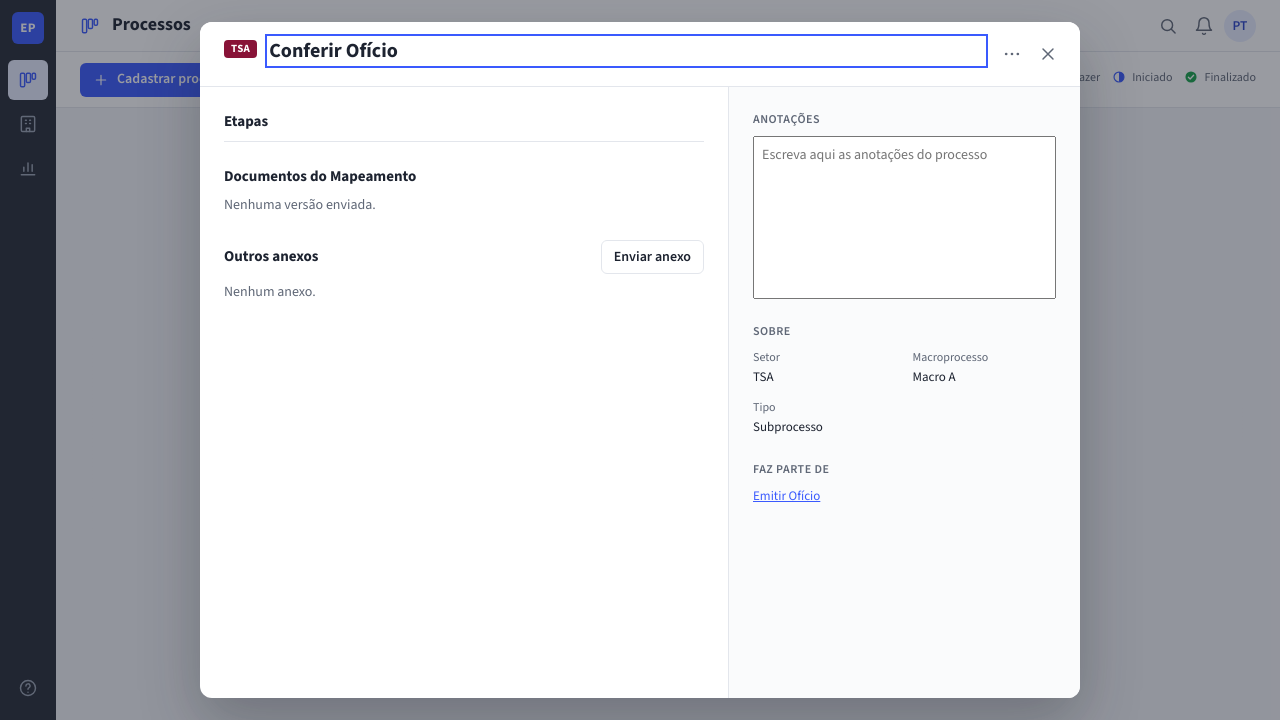
Test: subprocesso vira processo: o pai some do painel
Expected: the link "Emitir Ofício" is shown, x1=753 y1=486 x2=820 y2=504
Click the button named "Ações do processo": (1012, 54) x1=996 y1=38 x2=1028 y2=70
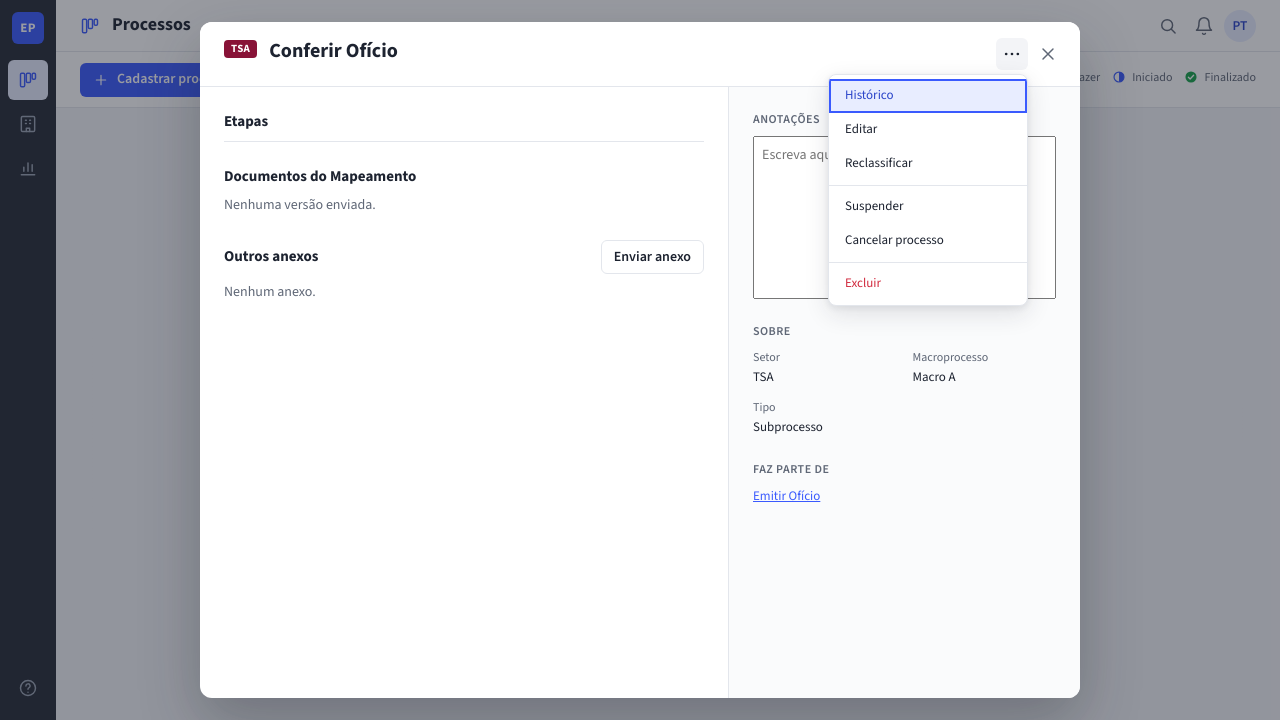
Click the menu item "Reclassificar": (928, 164) x1=829 y1=147 x2=1027 y2=181
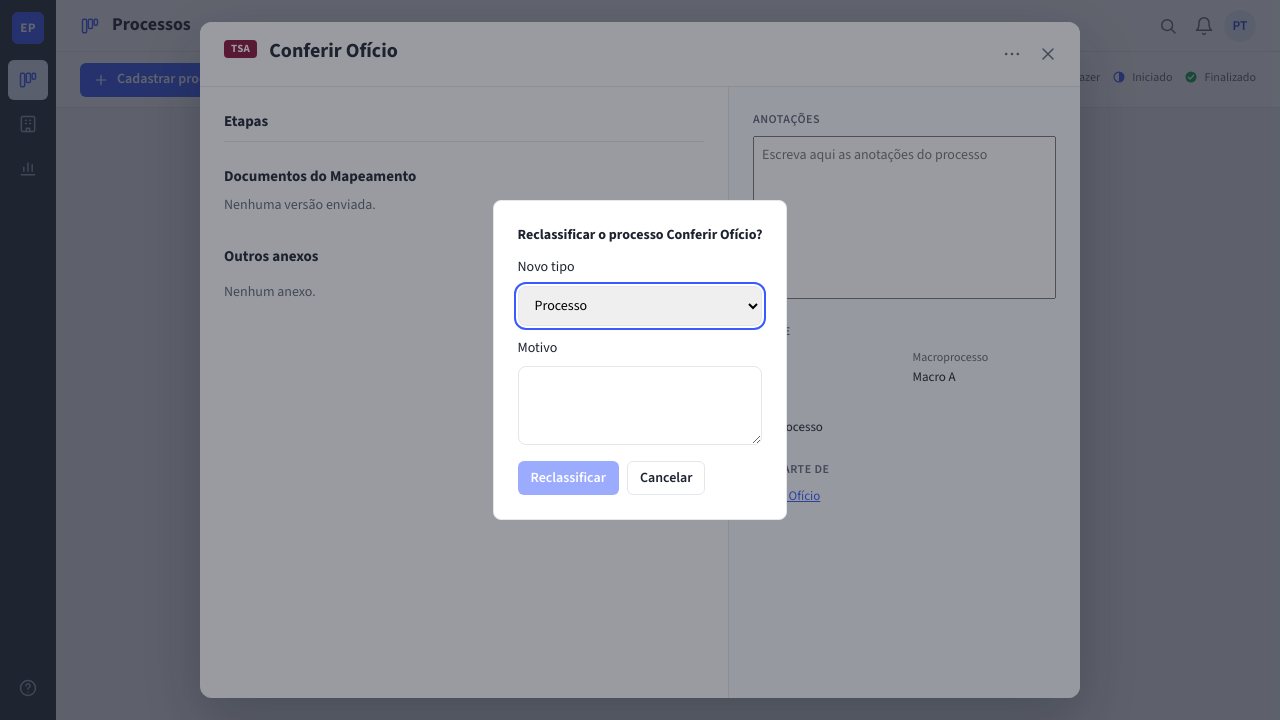
In the text box labelled "Motivo": (640, 405) x1=518 y1=366 x2=762 y2=445, type "Virou processo"
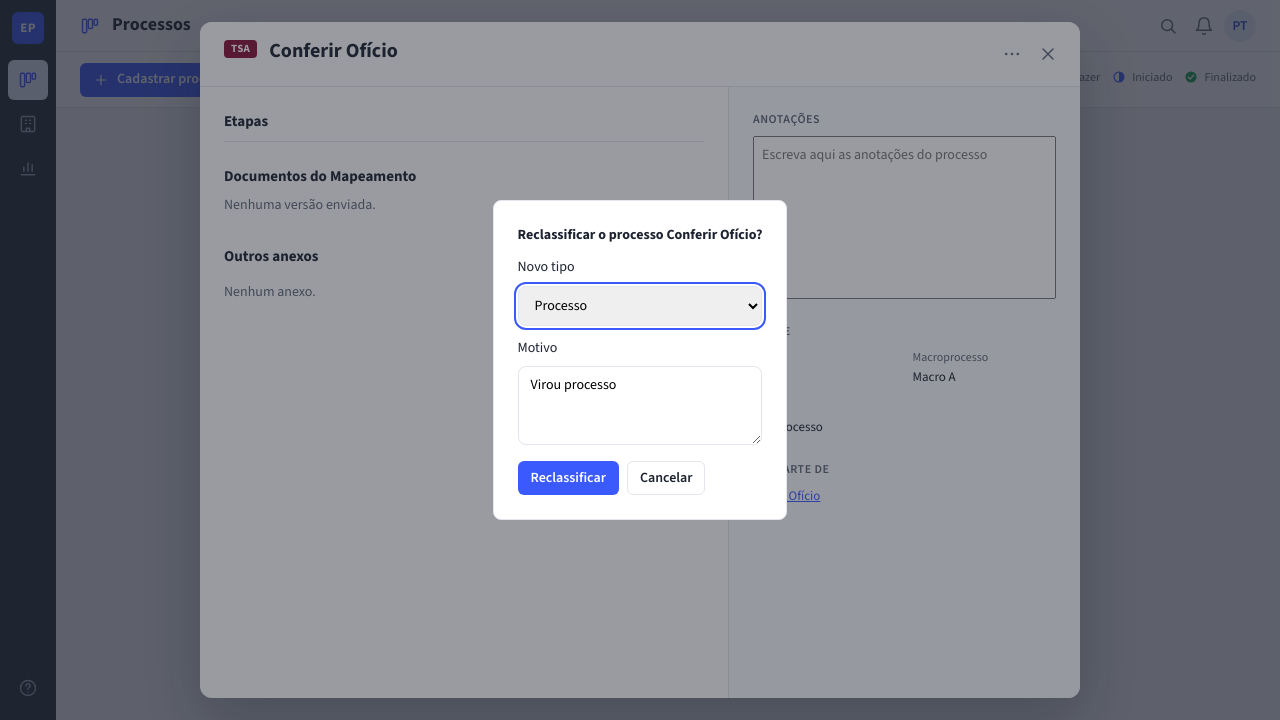
Click the button "Reclassificar": (568, 478) x1=518 y1=461 x2=619 y2=495
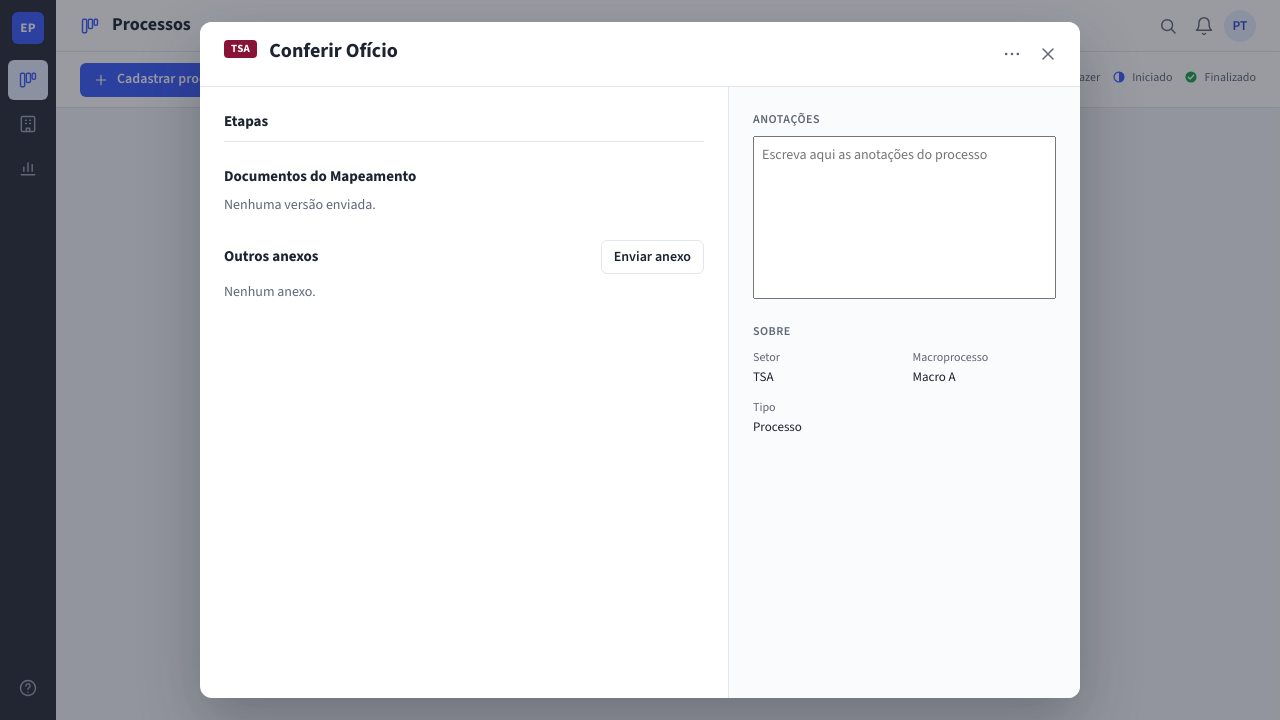
Result: the link "Emitir Ofício" is gone
